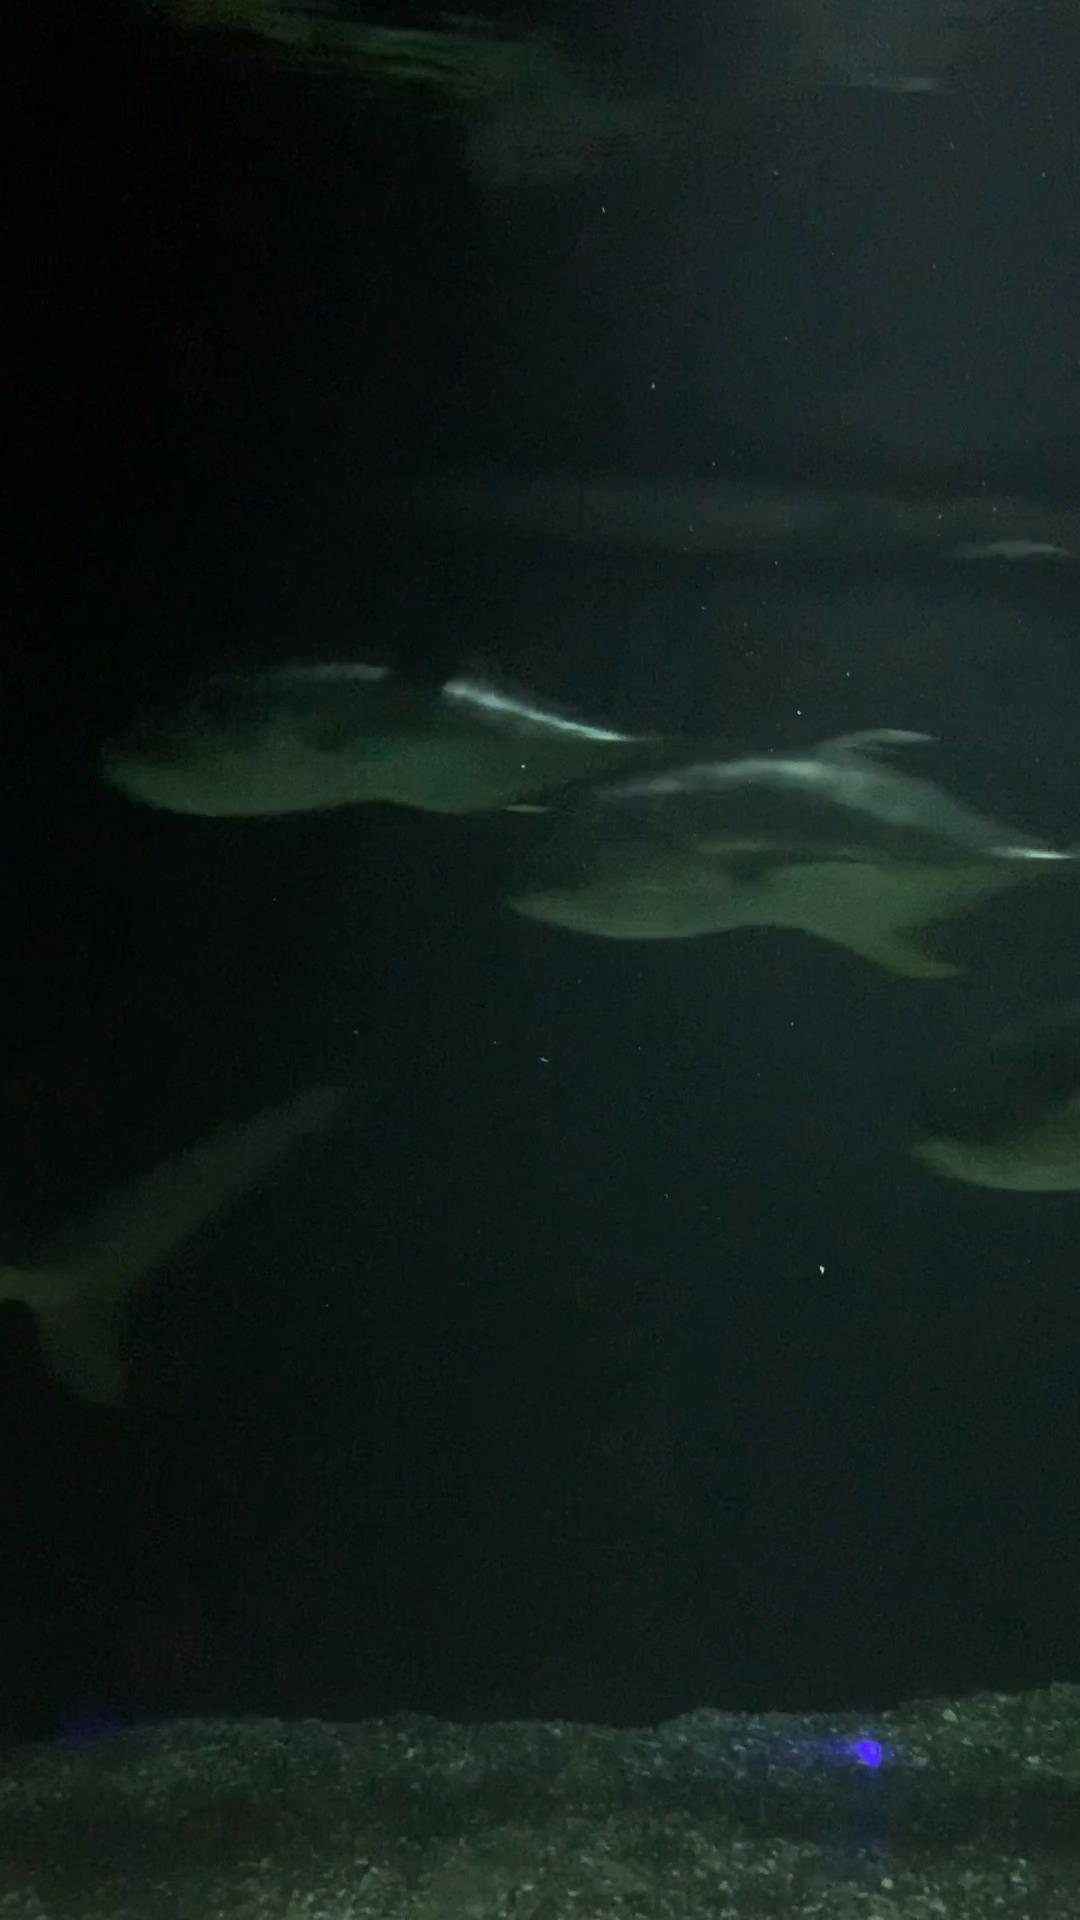fish: (491, 717, 1077, 992), (94, 626, 752, 827), (898, 1017, 1080, 1212)
shark: (0, 1059, 369, 1415)
